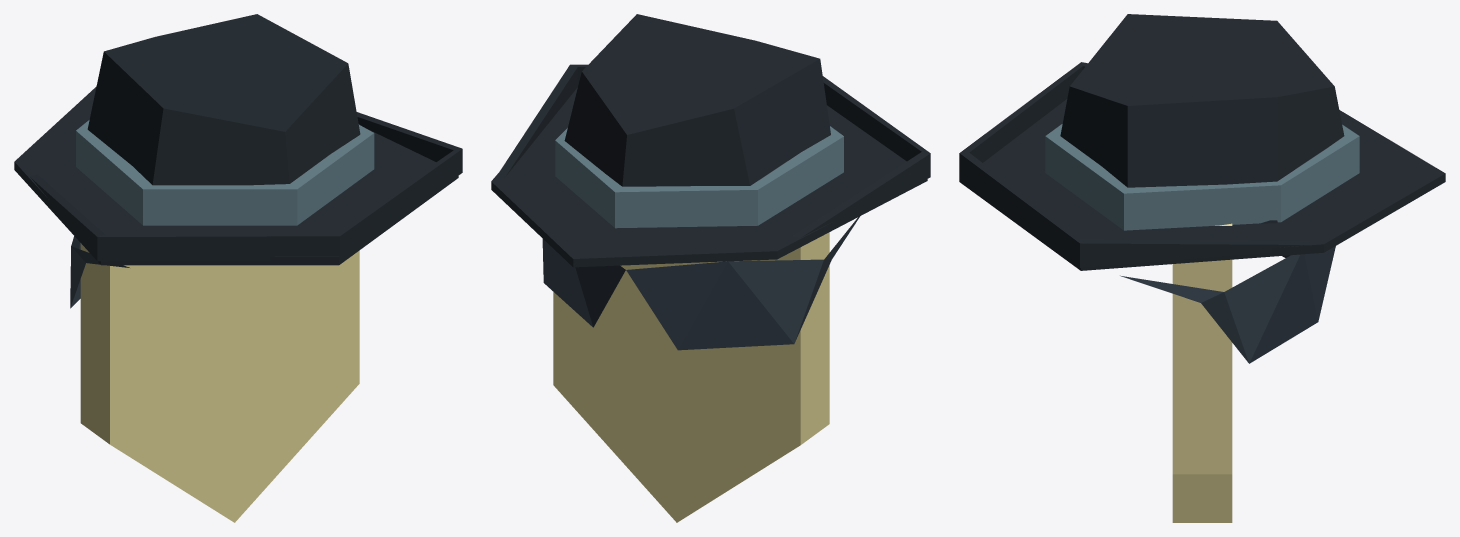
File: FedoraCoin.fbx
The picture shows the model from 3 angles, left to right: view 1: azimuth 30°, elevation 25°; view 2: azimuth 150°, elevation 25°; view 3: azimuth 270°, elevation 25°; orthographic projection. The views are drawn at different scales.
Parts seen in each view (by area): view 1: Cylinder.001, Cylinder, Icosphere; view 2: Cylinder.001, Cylinder, Icosphere; view 3: Cylinder.001, Cylinder, Icosphere.
Boxes of the visible parts, x1,y1,x2,y2 form: Cylinder.001: [14, 14, 462, 265]; Cylinder: [80, 243, 359, 522]; Icosphere: [70, 236, 129, 308]; Cylinder.001: [491, 14, 930, 267]; Cylinder: [553, 232, 829, 522]; Icosphere: [542, 216, 859, 350]; Cylinder.001: [959, 14, 1445, 270]; Cylinder: [1172, 223, 1232, 522]; Icosphere: [1120, 246, 1335, 363].
Bounding box in the file's own units: 153 × 182 × 173.
